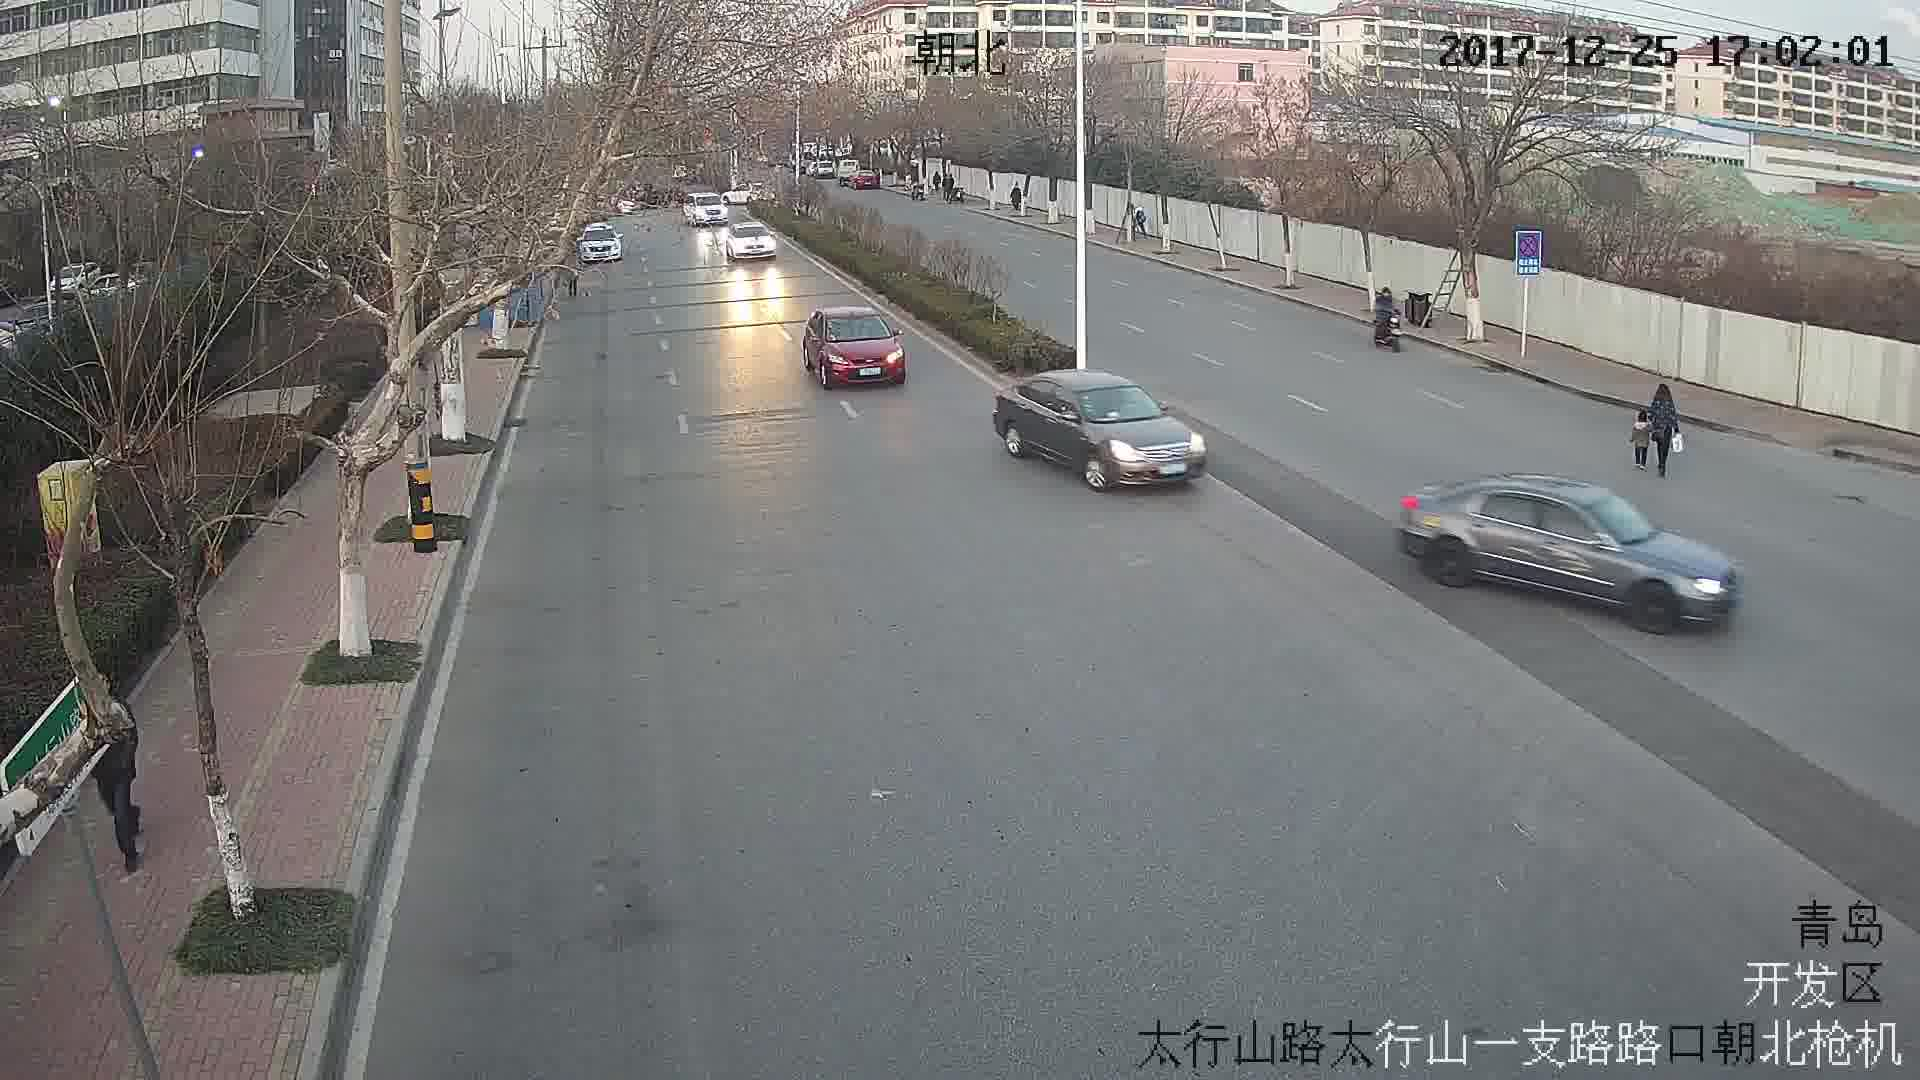car: (1398, 474, 1757, 631), (992, 371, 1206, 491), (799, 302, 910, 388), (725, 219, 784, 269), (580, 217, 621, 264), (685, 191, 731, 224)
person: (82, 702, 155, 867), (1653, 384, 1681, 478), (1371, 292, 1400, 342), (1632, 412, 1652, 470)
